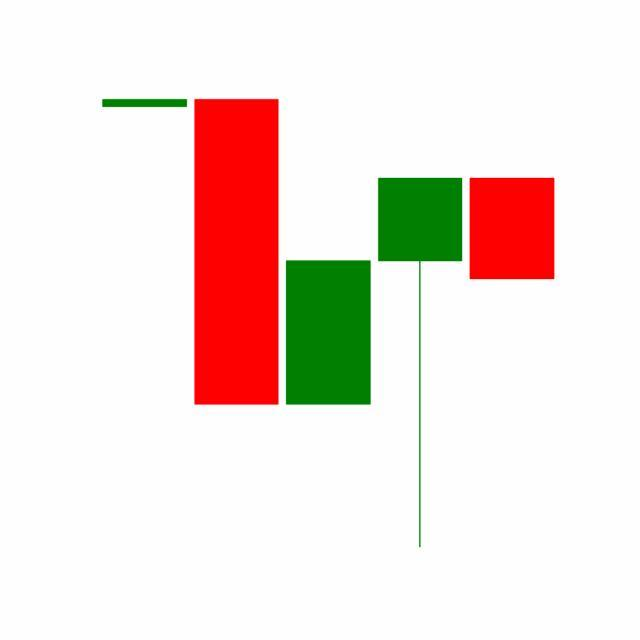Hanging Man: (374, 174, 468, 552)
